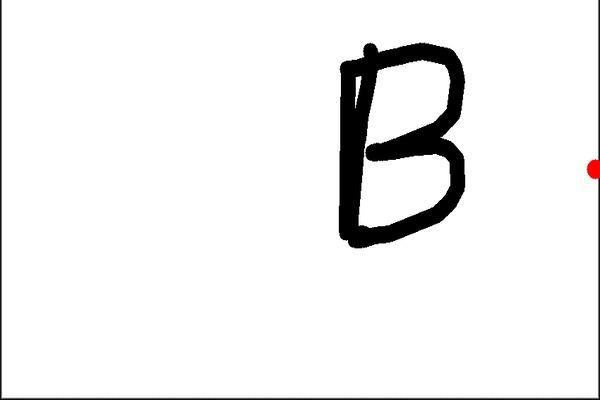B: (323, 32, 475, 260)
